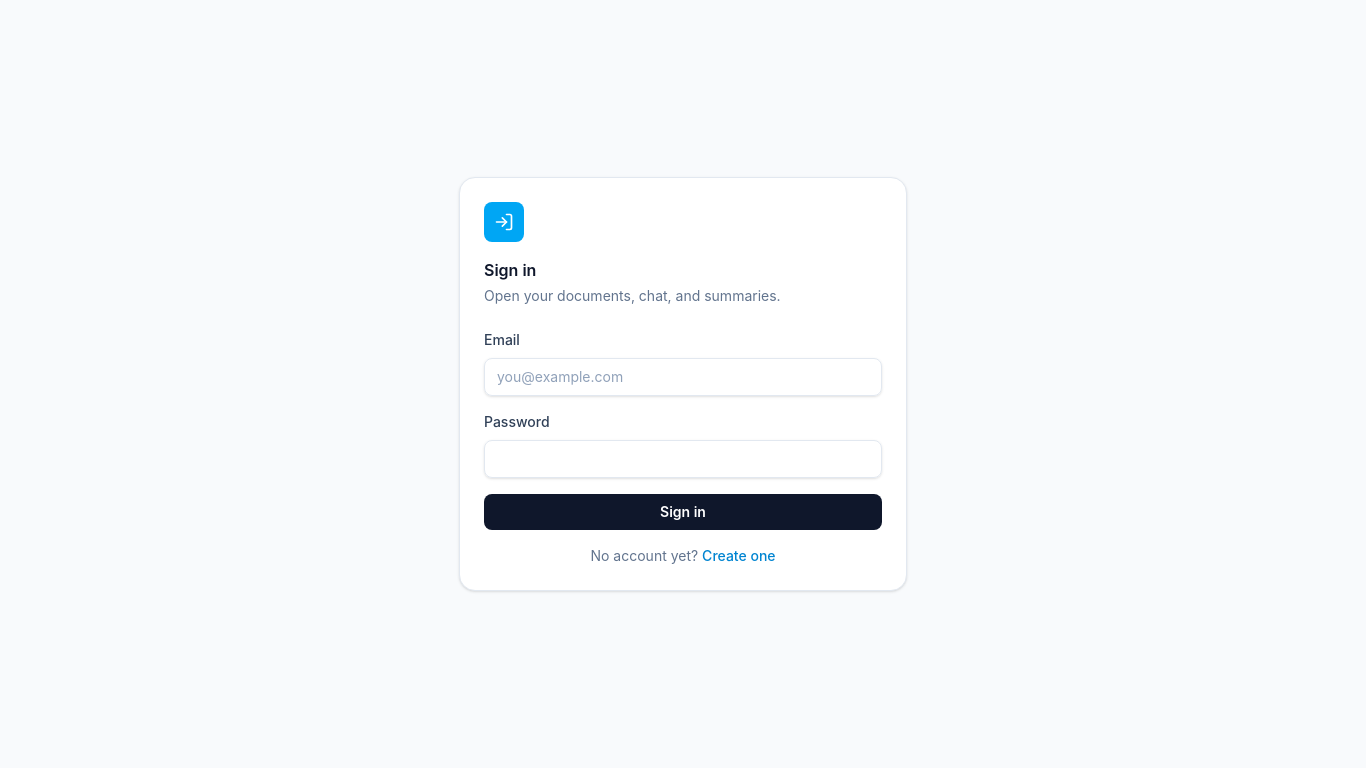
Test: application routes › signs in and returns to the page that was requested
The image size is (1366, 768).
Check: the heading "Sign in" is shown, box x1=484 y1=260 x2=536 y2=280
Type "ada@example.com" into the field labelled "Email" at (683, 377), box x1=484 y1=358 x2=882 y2=396
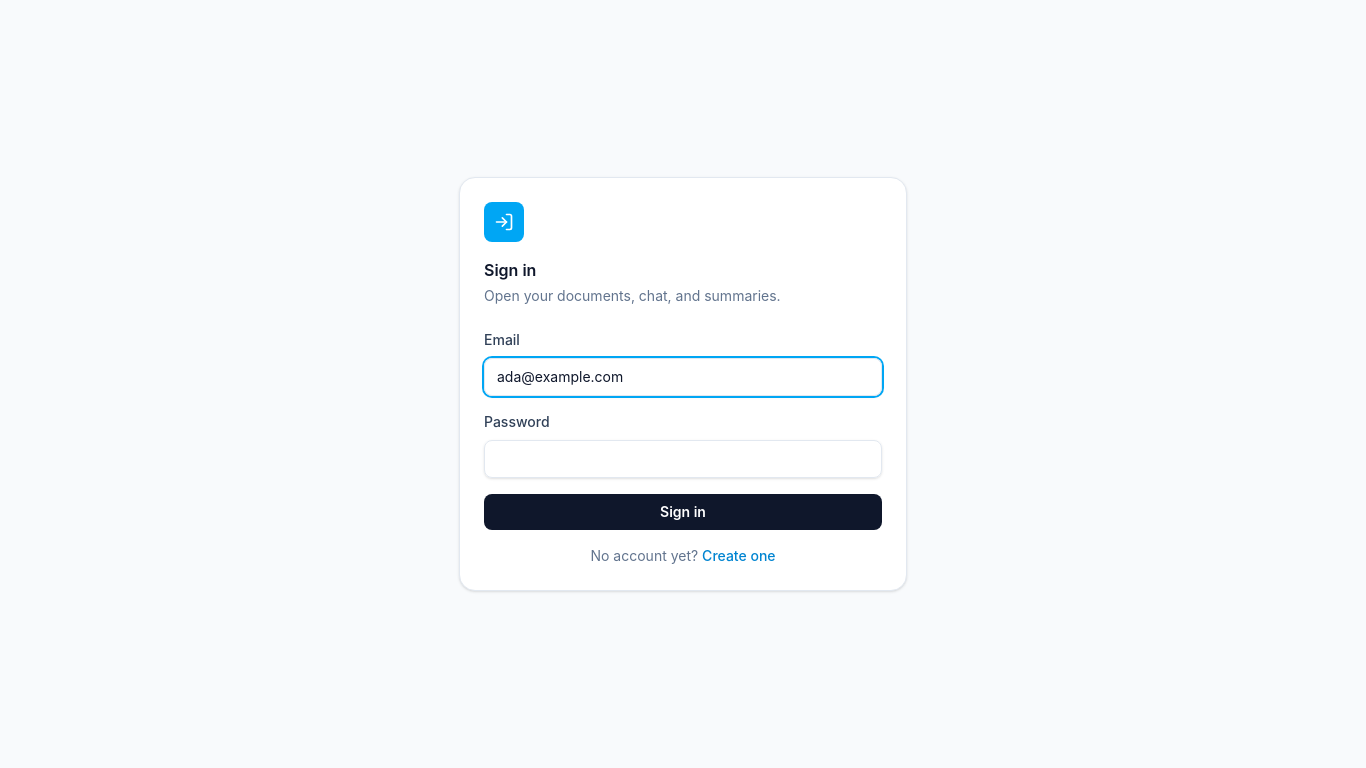
Type "correct-horse" into the password field labelled "Password" at (683, 459), box x1=484 y1=440 x2=882 y2=478
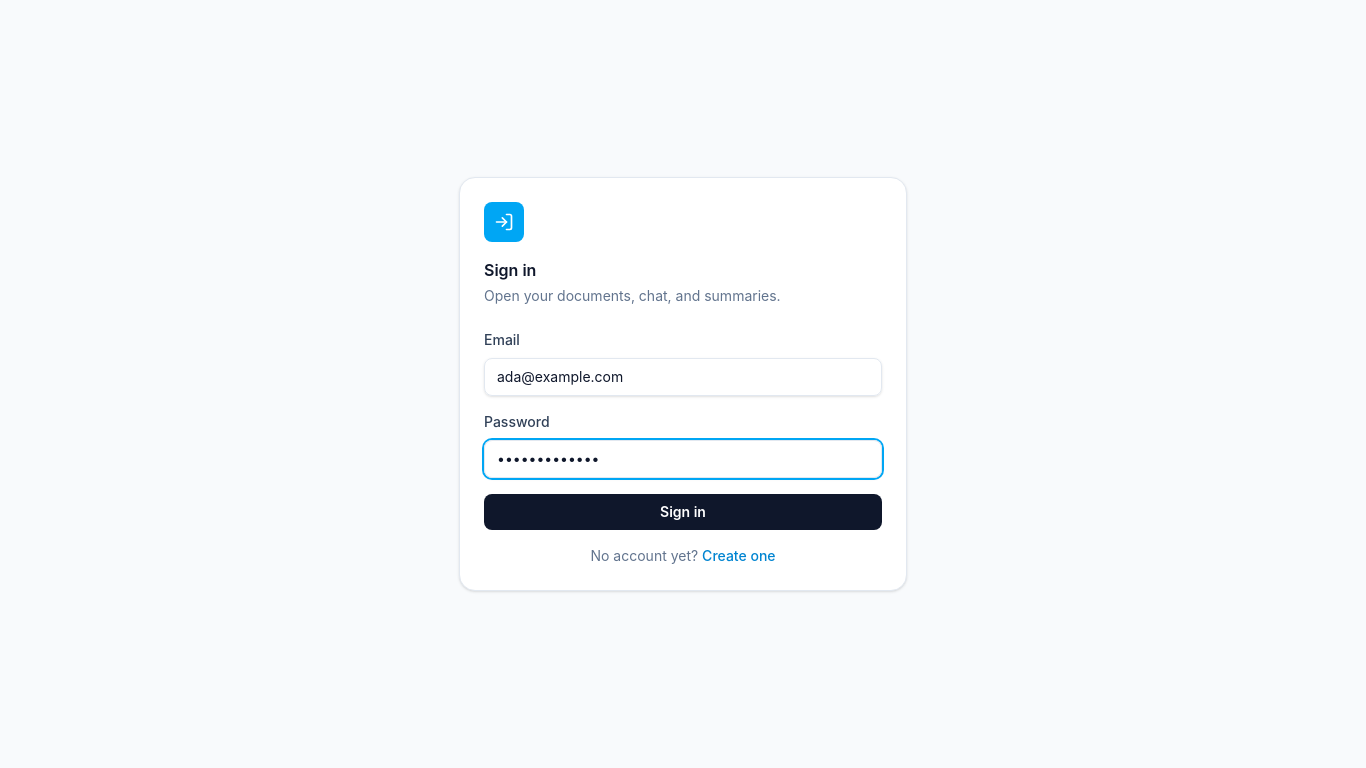
Click the button "Sign in" at (683, 512), box x1=484 y1=494 x2=882 y2=530
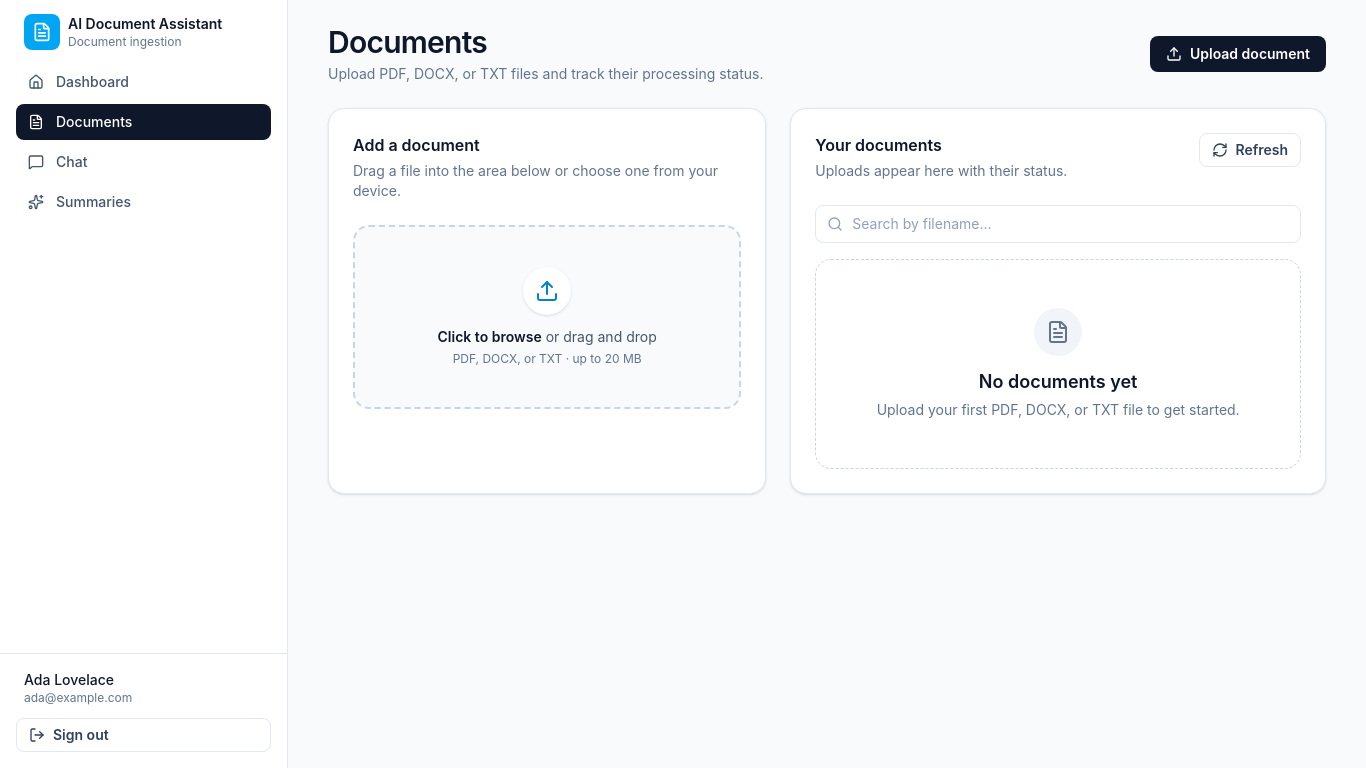
Check: the heading "Documents" is shown, box x1=328 y1=24 x2=487 y2=60
